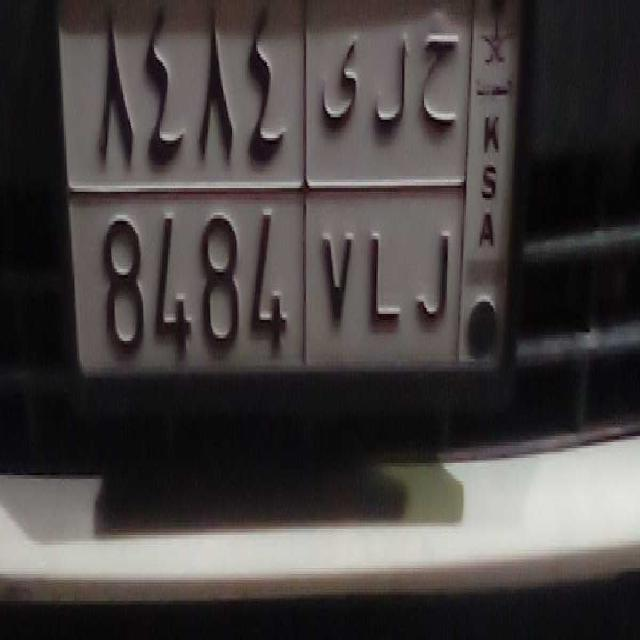license_plate: (84, 185, 458, 393)
